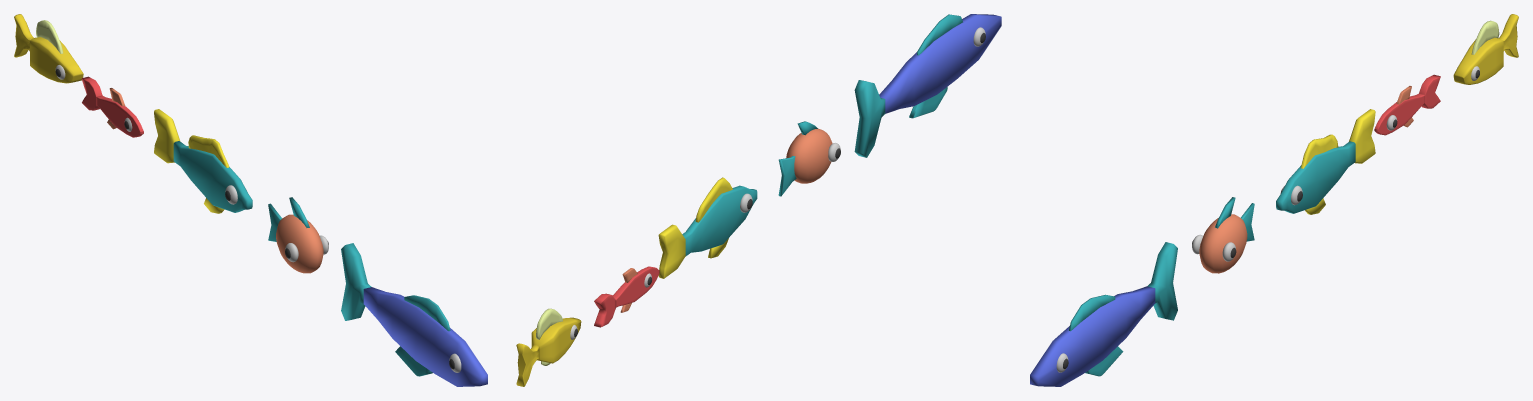
File: Fish.fbx
3 renders of one model, left to right at view 1: azimuth 30°, elevation 25°; view 2: azimuth 150°, elevation 25°; view 3: azimuth 330°, elevation 25°, orthographic.
Parts seen in each view (by area): view 1: Plane.014, Plane.008, Sphere.012, Plane, Plane.016, Plane.009, Plane.004, Plane.015, Plane.003, Plane.010, Plane.007, Plane.001; view 2: Plane.014, Plane.008, Sphere.012, Plane.016, Plane, Plane.009, Plane.004, Plane.003, Plane.015, Plane.007, Plane.010, Plane.013 (+2 smaller); view 3: Plane.014, Plane.008, Sphere.012, Plane.016, Plane, Plane.009, Plane.004, Plane.015, Plane.003, Plane.010, Plane.007, Plane.001.
Boxes of the visible parts, <box> form: Plane.014: <box>363,287,487,386</box>; Plane.008: <box>173,141,252,212</box>; Sphere.012: <box>276,214,323,273</box>; Plane: <box>30,37,83,83</box>; Plane.016: <box>341,243,371,320</box>; Plane.009: <box>154,109,179,163</box>; Plane.004: <box>96,95,143,137</box>; Plane.015: <box>404,295,450,331</box>; Plane.003: <box>14,14,33,57</box>; Plane.010: <box>188,135,229,167</box>; Plane.007: <box>81,76,102,110</box>; Plane.001: <box>36,20,63,53</box>; Plane.014: <box>879,14,1001,113</box>; Plane.008: <box>682,185,757,256</box>; Sphere.012: <box>786,128,832,183</box>; Plane.016: <box>854,80,885,157</box>; Plane: <box>531,317,581,363</box>; Plane.009: <box>658,224,685,278</box>; Plane.004: <box>613,266,659,307</box>; Plane.003: <box>516,343,539,386</box>; Plane.015: <box>917,14,962,55</box>; Plane.007: <box>594,293,616,327</box>; Plane.010: <box>695,177,732,222</box>; Plane.013: <box>778,156,796,196</box>; Plane.014: <box>1030,286,1155,386</box>; Plane.008: <box>1276,141,1355,213</box>; Sphere.012: <box>1199,214,1247,273</box>; Plane.016: <box>1147,242,1177,320</box>; Plane: <box>1453,37,1503,84</box>; Plane.009: <box>1349,109,1375,163</box>; Plane.004: <box>1374,93,1424,135</box>; Plane.015: <box>1069,294,1115,331</box>; Plane.003: <box>1498,14,1518,57</box>; Plane.010: <box>1300,134,1338,168</box>; Plane.007: <box>1419,74,1440,108</box>; Plane.001: <box>1471,20,1499,54</box>.
Size of the model in its own units: 214 by 405 by 4192.
